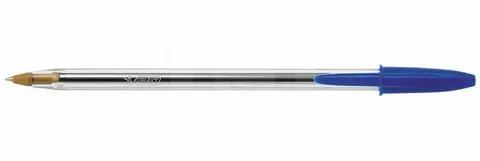pen-pencil: (9, 65, 475, 94)
